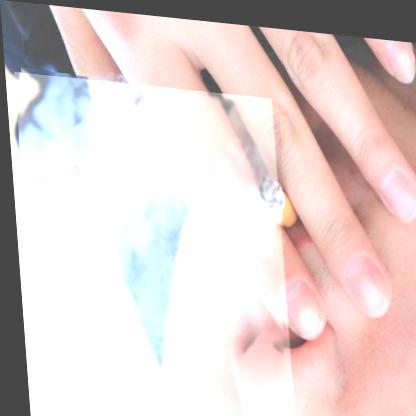smoke: (20, 79, 277, 416)
